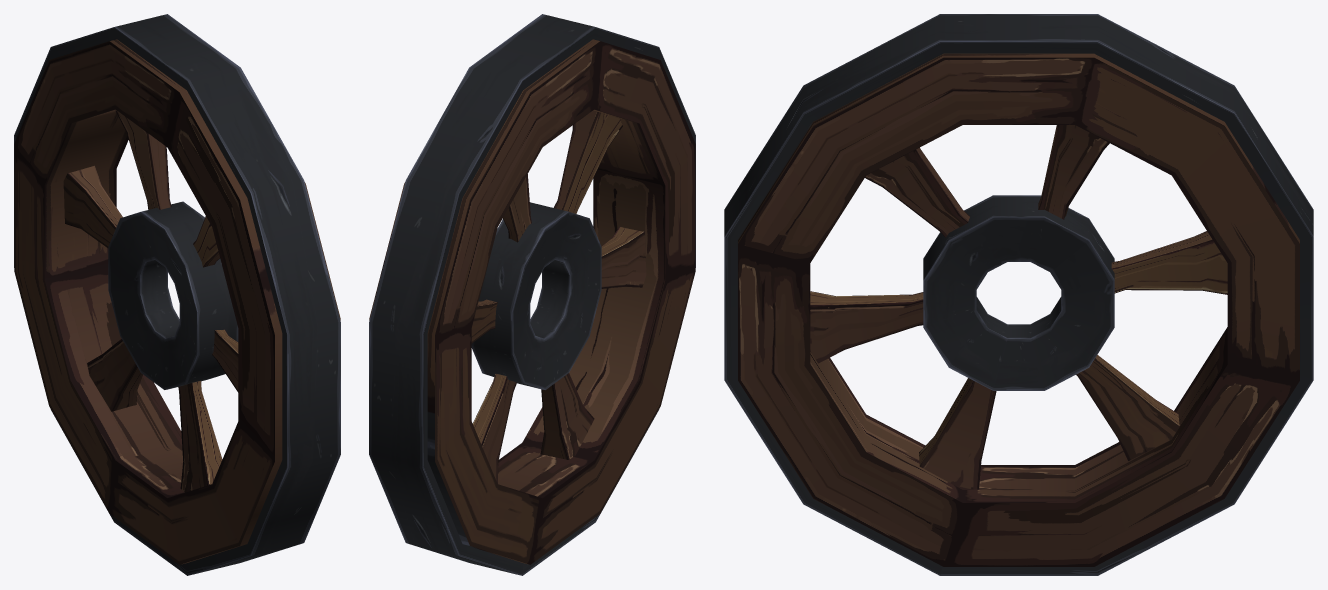
Rendered from SM_PROP_wheel_dungeon_01.fbx.
3 renders of one model, left to right at view 1: azimuth 30°, elevation 25°; view 2: azimuth 150°, elevation 25°; view 3: azimuth 270°, elevation 25°, orthographic. The views are drawn at different scales.
Parts seen in each view (by area): view 1: SM_PROP_wheel_dungeon_01; view 2: SM_PROP_wheel_dungeon_01; view 3: SM_PROP_wheel_dungeon_01.
Part boxes in pixels (x1,y1,x2,y2): SM_PROP_wheel_dungeon_01: (14, 14, 340, 575); SM_PROP_wheel_dungeon_01: (369, 14, 695, 575); SM_PROP_wheel_dungeon_01: (724, 14, 1313, 575).
Bounding box in the file's own units: 26.97 × 177 × 177.
